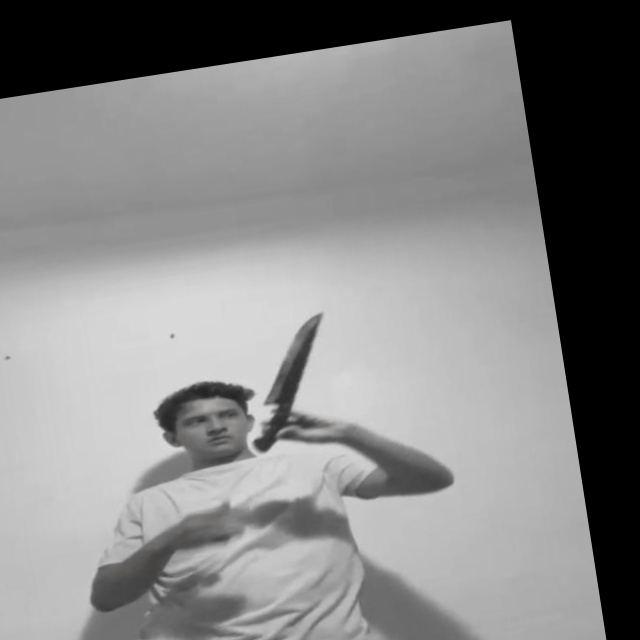Sharp-Object: (247, 312, 337, 413)
